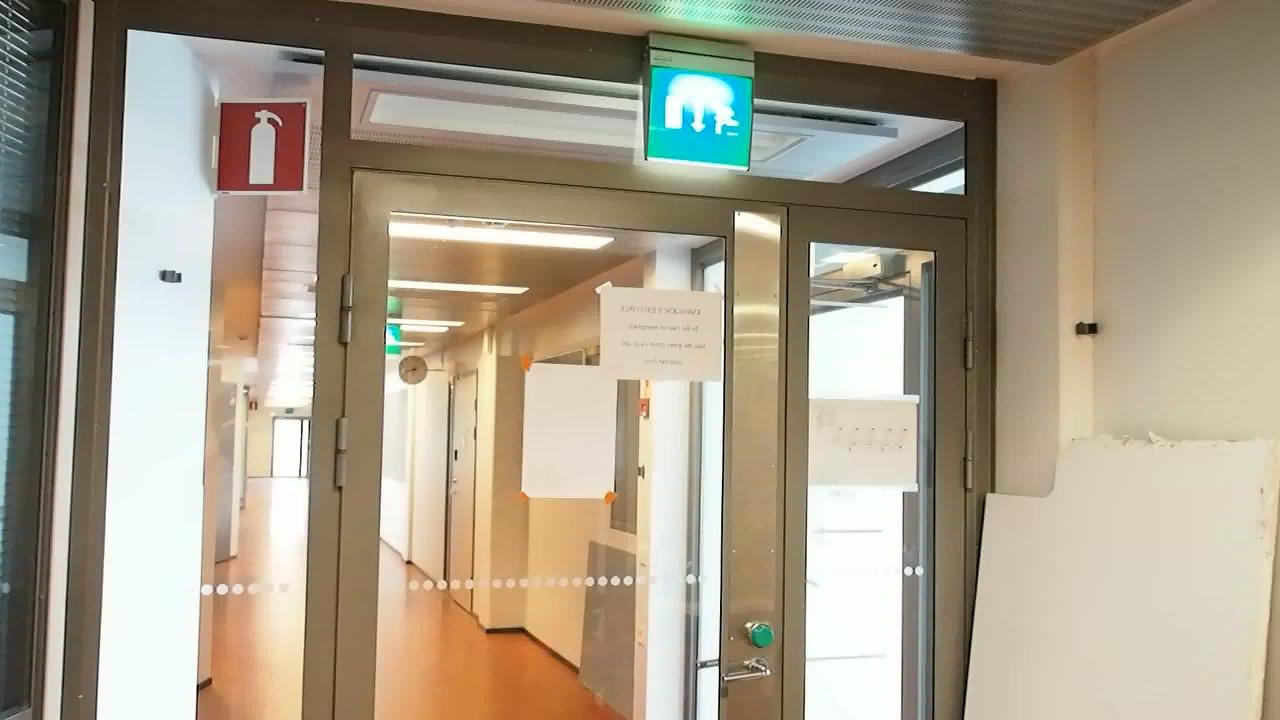exit: (645, 63, 753, 166)
fireextinguisher: (212, 97, 301, 190)
